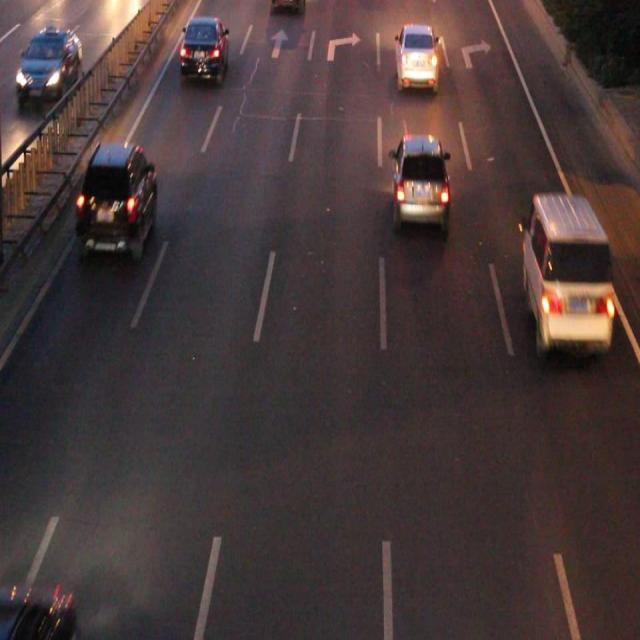car: (80, 144, 156, 254), (393, 136, 447, 222), (0, 584, 72, 640), (182, 19, 228, 77), (395, 27, 436, 88)
truck: (521, 194, 610, 345)
